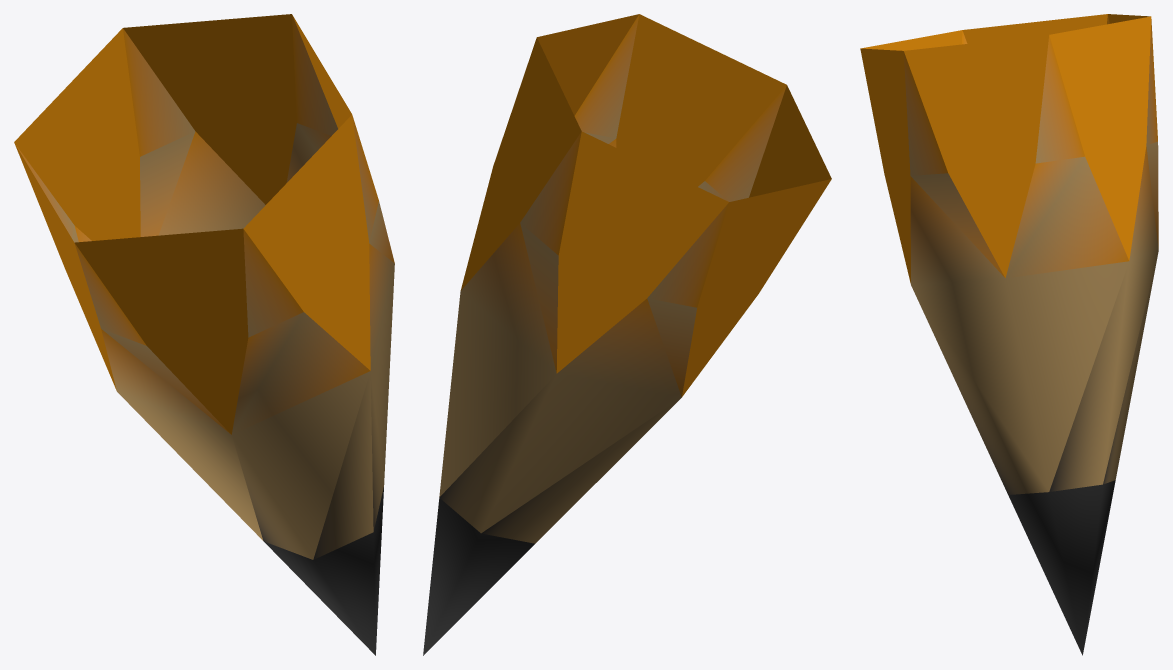
File: examples1.fbx
3 renders of one model, left to right at view 1: azimuth 30°, elevation 25°; view 2: azimuth 150°, elevation 25°; view 3: azimuth 270°, elevation 25°, orthographic. The views are drawn at different scales.
Parts seen in each view (by area): view 1: Pencil; view 2: Pencil; view 3: Pencil.
Boxes of the visible parts, left/top/right/bottom form: Pencil: left=14, top=14, right=394, bottom=655; Pencil: left=423, top=14, right=831, bottom=655; Pencil: left=860, top=14, right=1158, bottom=655.
Bounding box in the file's own units: 2.42 × 4.24 × 1.98.
